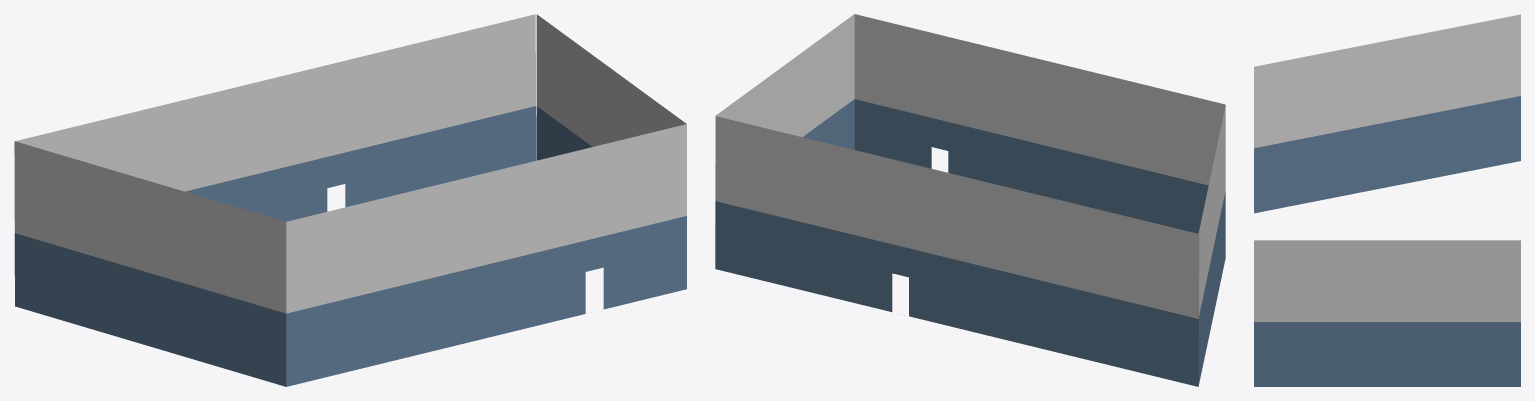
The model's file is paredes.glb.
The picture shows the model from 3 angles, left to right: view 1: azimuth 30°, elevation 25°; view 2: azimuth 150°, elevation 25°; view 3: azimuth 270°, elevation 25°; orthographic projection. The views are drawn at different scales.
Visible parts, largest first — view 1: paredes_externas; view 2: paredes_externas; view 3: paredes_externas.
Part boxes in pixels (x1,y1,x2,y2): paredes_externas: (14,14,686,386); paredes_externas: (715,14,1225,386); paredes_externas: (1254,14,1520,386).
Size of the model in its own units: 26.08 by 7.88 by 13.
